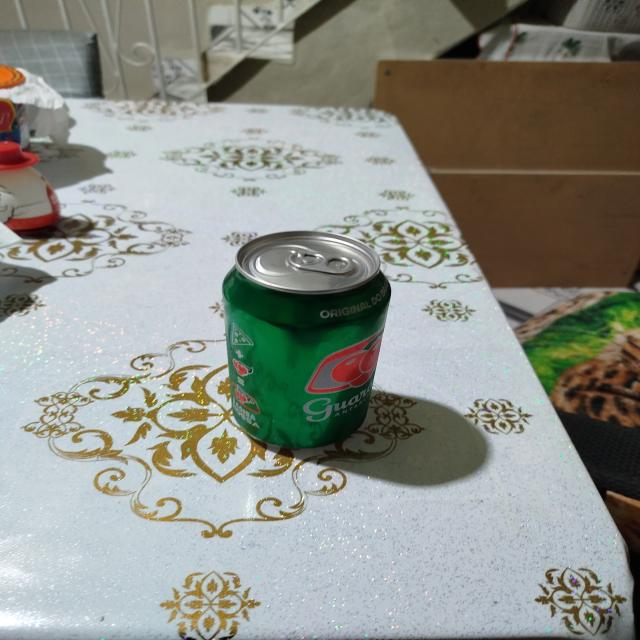Guarana: (218, 232, 394, 452)
